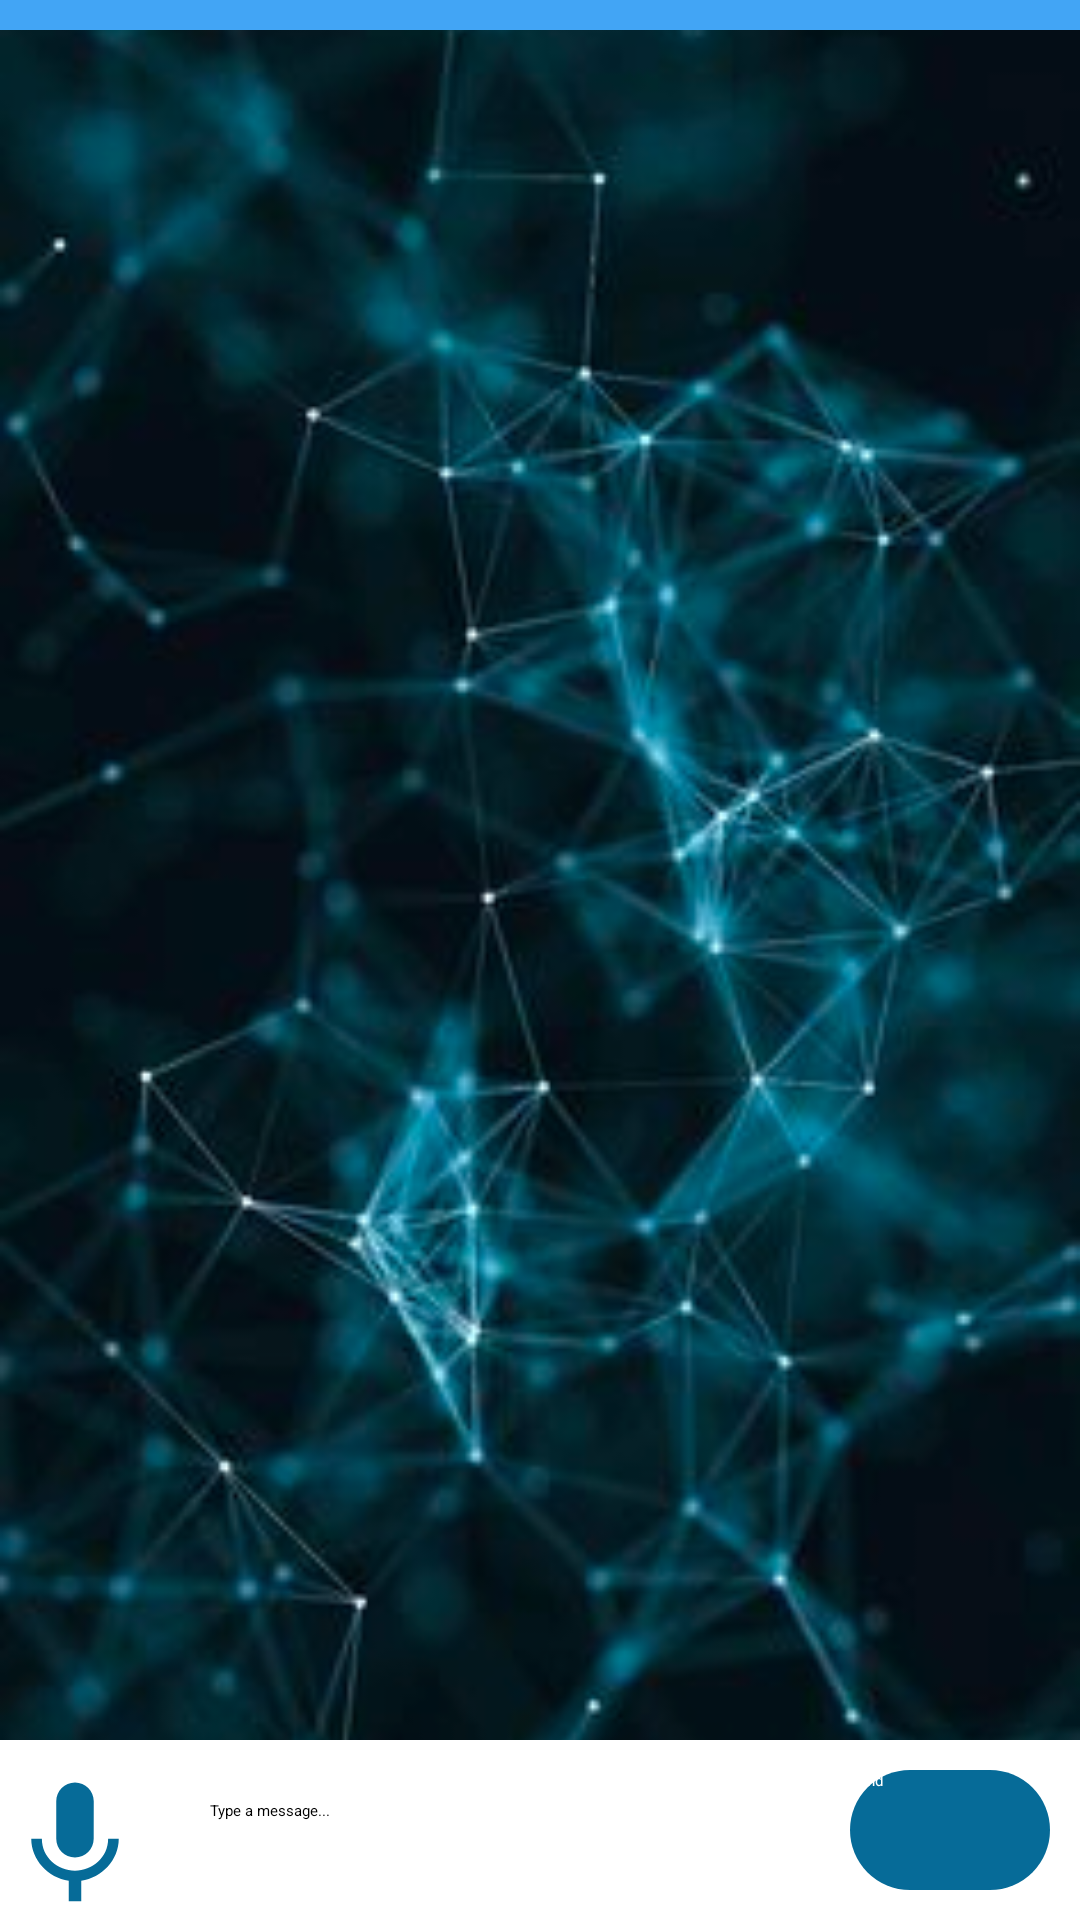

Point at icon controls on the screen. Image size 1080px x 1920px, points as [x,y].
mic: [75,1842]
